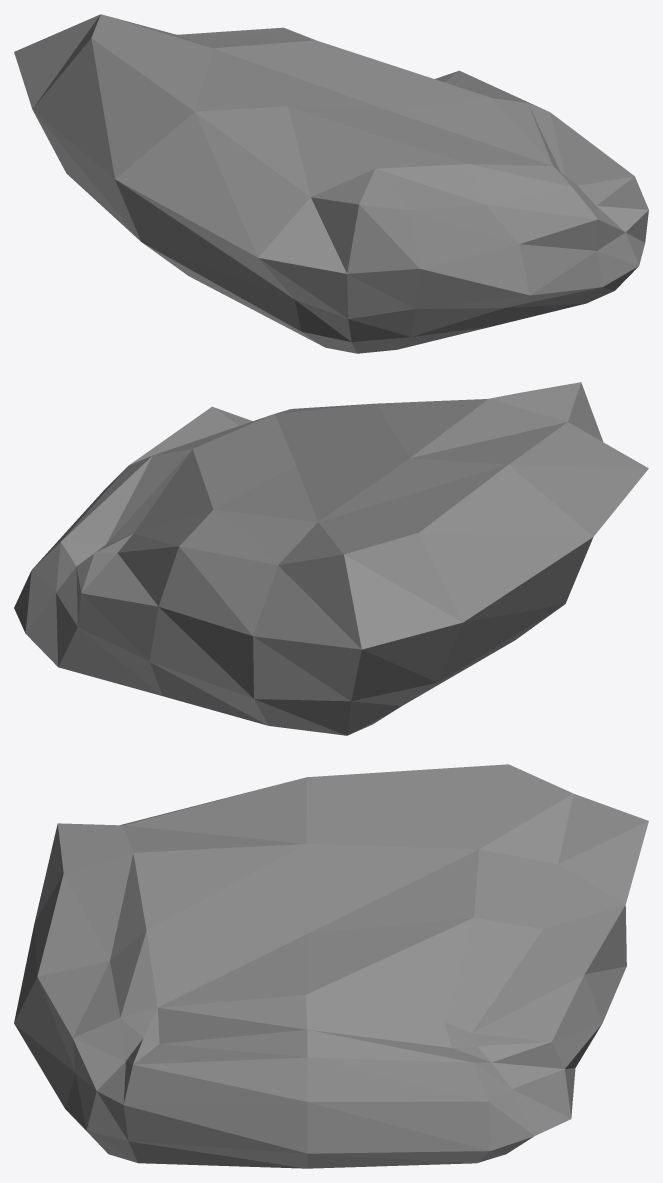
Rendered from rock_01_d.fbx.
The picture shows the model from 3 angles, top to bottom: view 1: azimuth 30°, elevation 25°; view 2: azimuth 150°, elevation 25°; view 3: azimuth 270°, elevation 25°; orthographic projection. The views are drawn at different scales.
Visible parts, largest first — view 1: Rock_01_d; view 2: Rock_01_d; view 3: Rock_01_d.
Part boxes in pixels (x1,y1,x2,y2): Rock_01_d: (14,14,648,353); Rock_01_d: (14,382,648,735); Rock_01_d: (14,764,648,1168).
Bounding box in the file's own units: 24.44 × 26.51 × 10.42.
